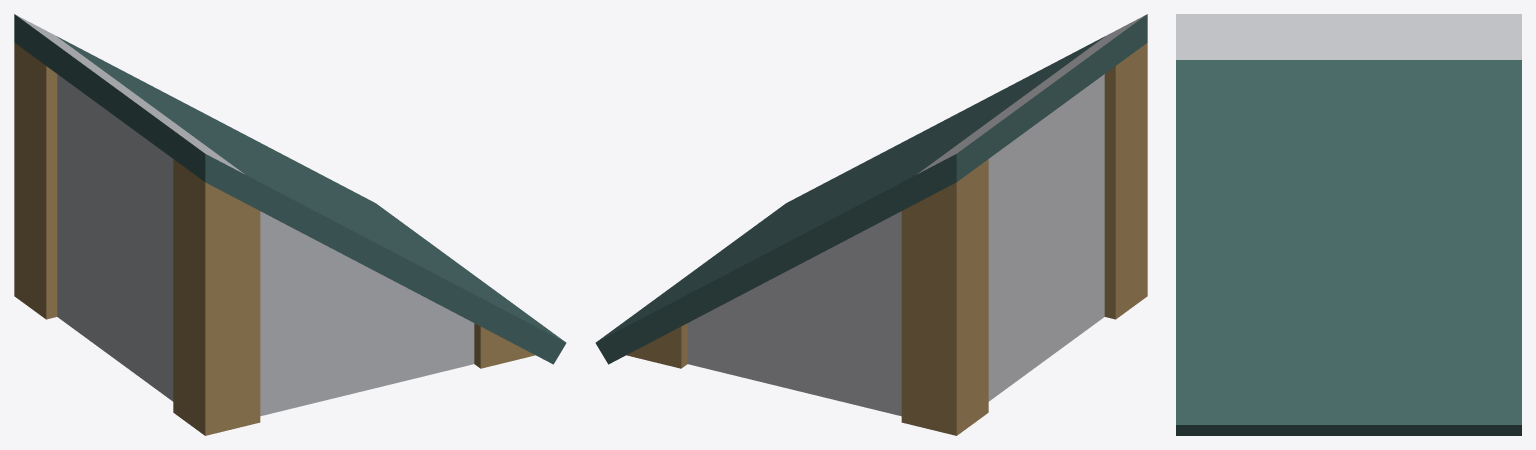
The model's file is Roof_Slant_Green_01.obj.
3 views of the same model, side by side, from view 1: azimuth 30°, elevation 25°; view 2: azimuth 150°, elevation 25°; view 3: azimuth 270°, elevation 25° (orthographic). The views are drawn at different scales.
Visible parts, largest first — view 1: Mesh1 Roof_Slant_Green Model; view 2: Mesh1 Roof_Slant_Green Model; view 3: Mesh1 Roof_Slant_Green Model.
Part boxes in pixels (x1=…): Mesh1 Roof_Slant_Green Model: x1=14, y1=14, x2=566, y2=435; Mesh1 Roof_Slant_Green Model: x1=595, y1=14, x2=1147, y2=435; Mesh1 Roof_Slant_Green Model: x1=1176, y1=14, x2=1521, y2=435.
Size of the model in its own units: 3.28 by 2.57 by 3.
